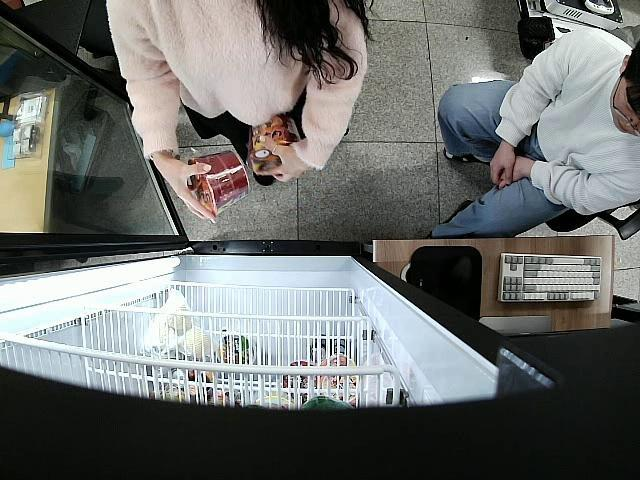05_nuguri_L: (188, 151, 252, 214), (247, 118, 300, 172)
